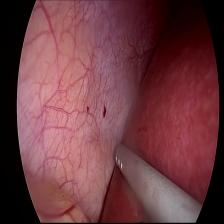Irrigator: (110, 140, 136, 182)
